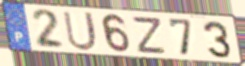2: (30, 8, 66, 50)
3: (201, 19, 233, 59)
6: (100, 12, 132, 55)
7: (168, 17, 195, 58)
U: (61, 10, 99, 53)
Z: (132, 16, 168, 56)
